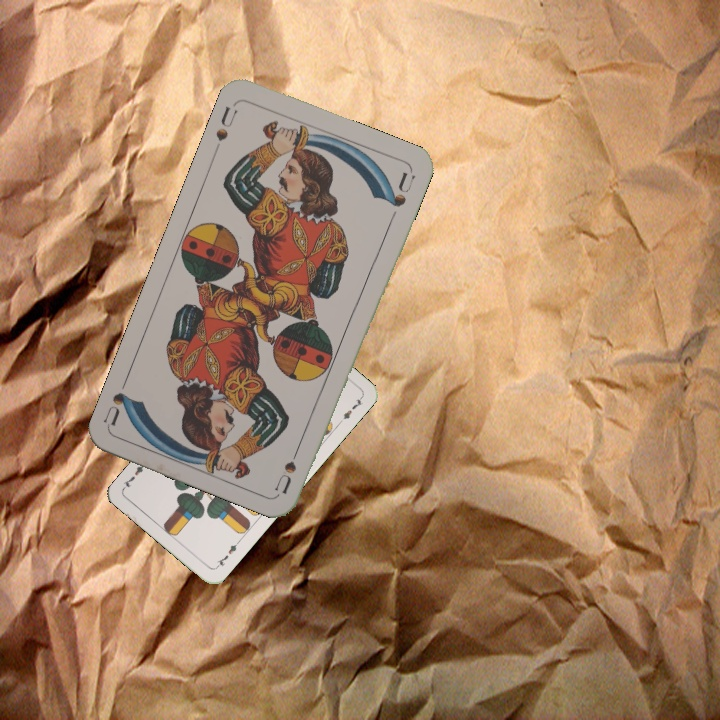E7: (212, 537, 242, 571)
SU: (271, 437, 305, 496), (211, 102, 240, 144)
